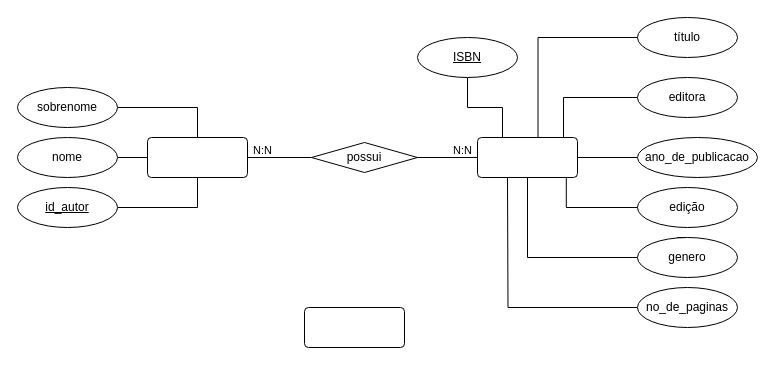
This 775x365 diagram has some shape labels left out. Each missing label, with the centre of its shape:
AUTOR: (x=197, y=157)
CATALOGACAO: (x=354, y=327)
LIVRO: (x=527, y=157)
